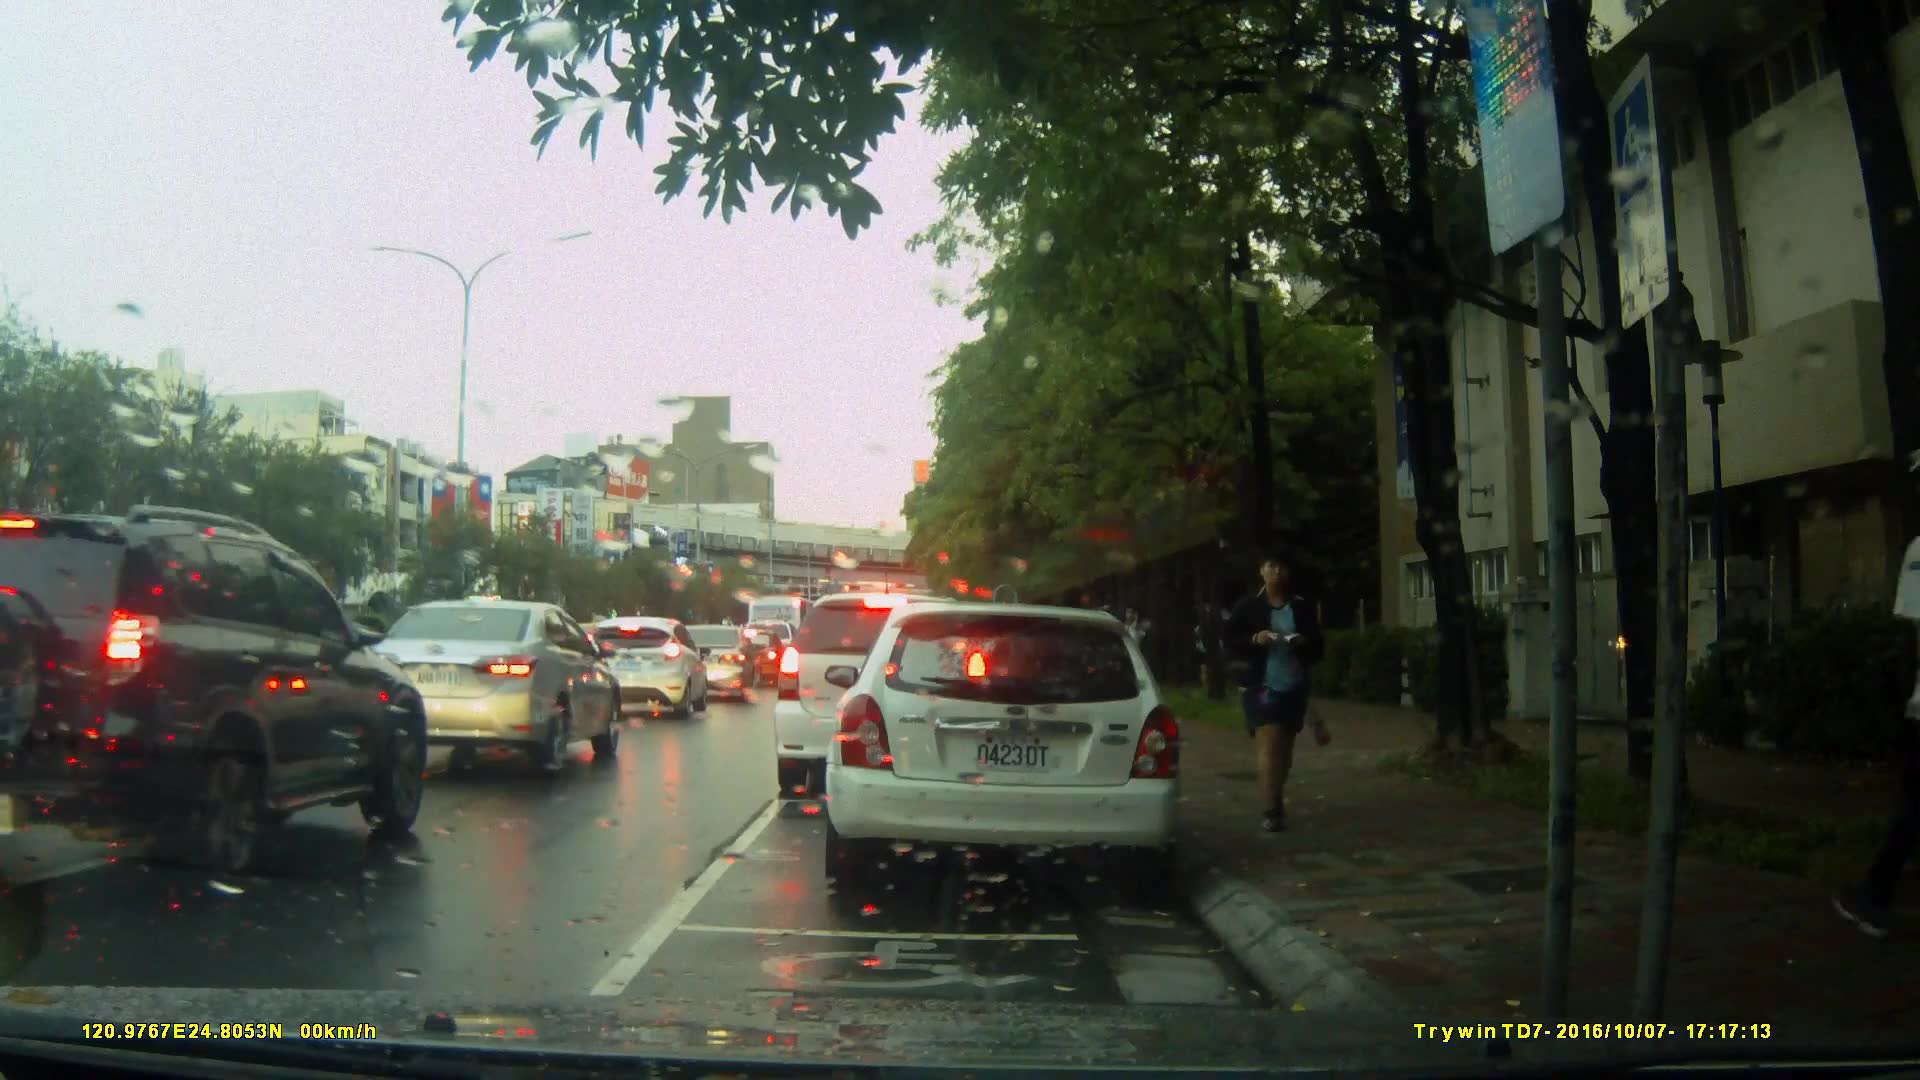pedestrian: (1210, 547, 1349, 837), (1113, 588, 1154, 730)
vehicle: (3, 504, 431, 899), (815, 593, 1198, 893), (358, 600, 626, 778), (770, 590, 995, 802), (577, 613, 711, 721), (672, 624, 758, 698)
